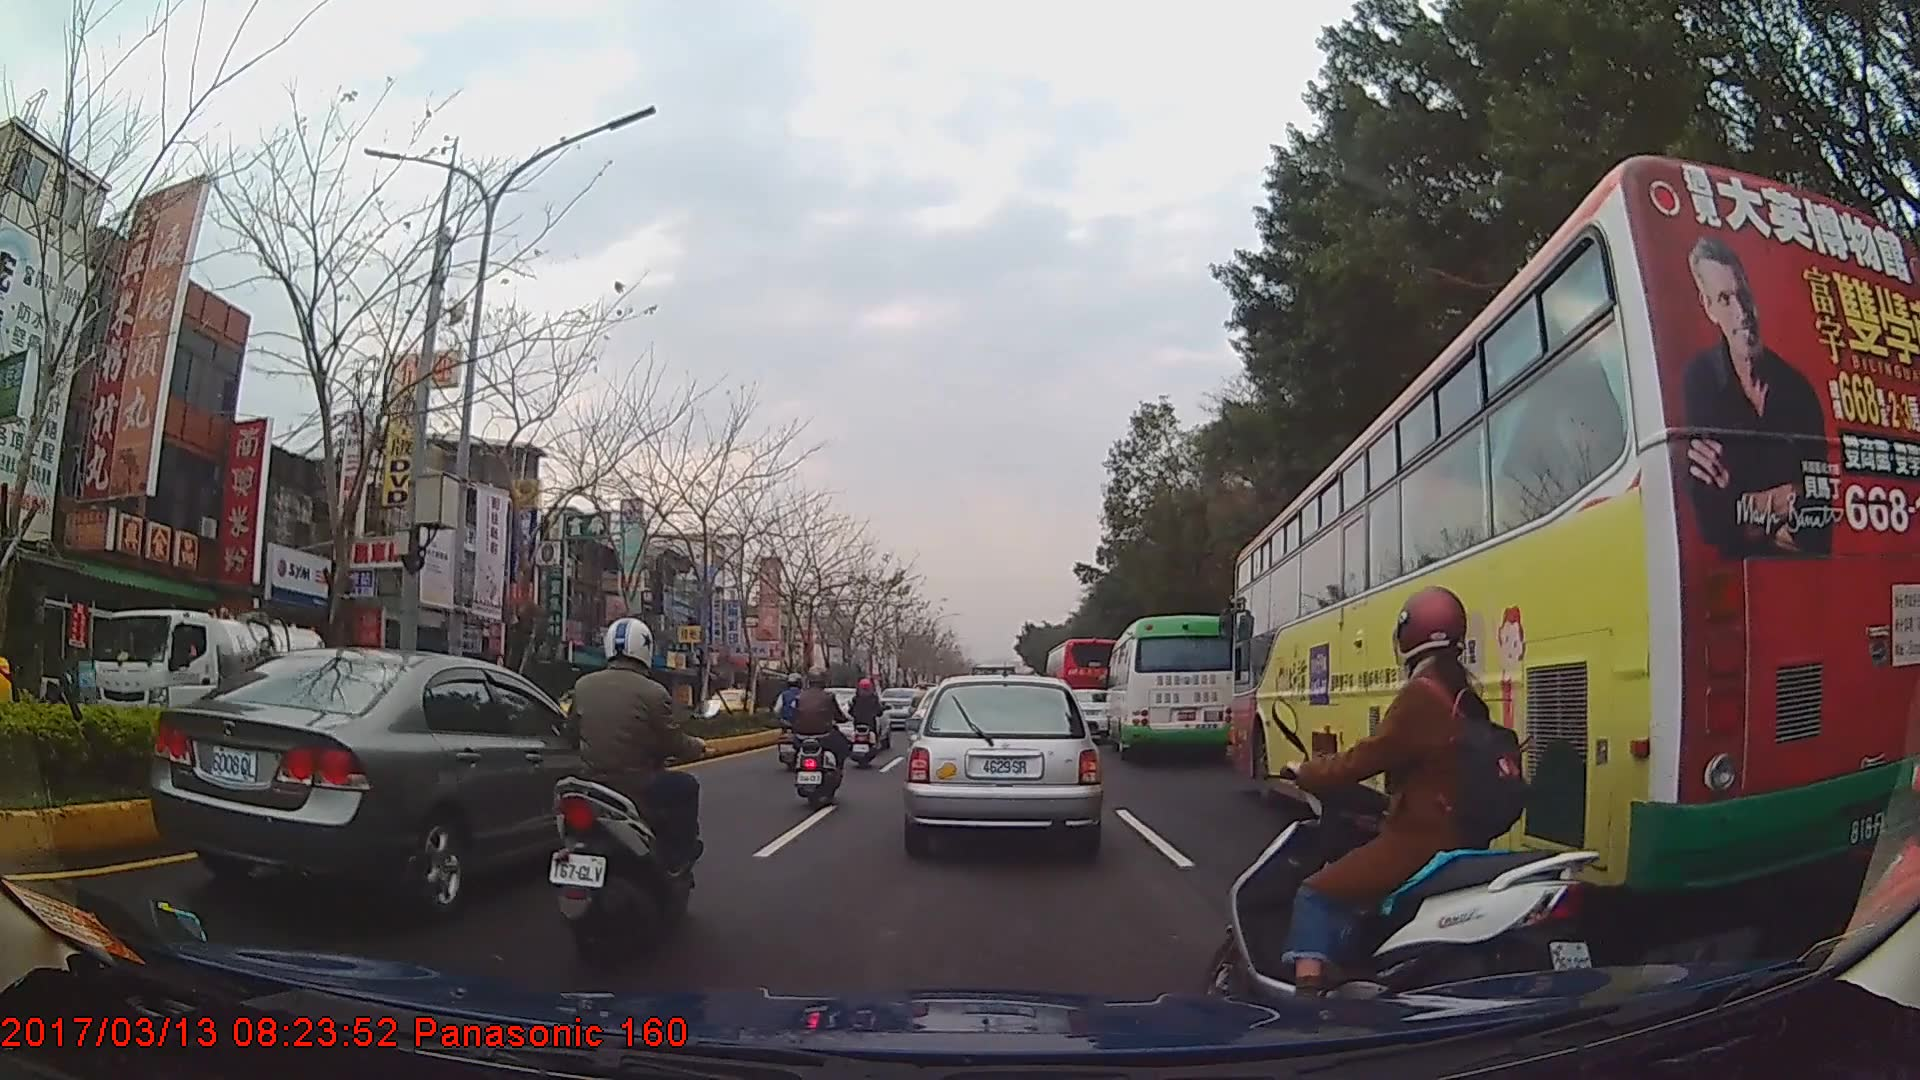rider: (1221, 589, 1602, 1038), (555, 619, 719, 955), (793, 666, 842, 809), (772, 670, 816, 753), (845, 676, 883, 772)
vehicle: (1229, 152, 1915, 908), (146, 646, 628, 917), (88, 606, 331, 763), (905, 669, 1102, 855), (1104, 614, 1236, 762), (1041, 635, 1123, 733), (697, 684, 757, 726)
